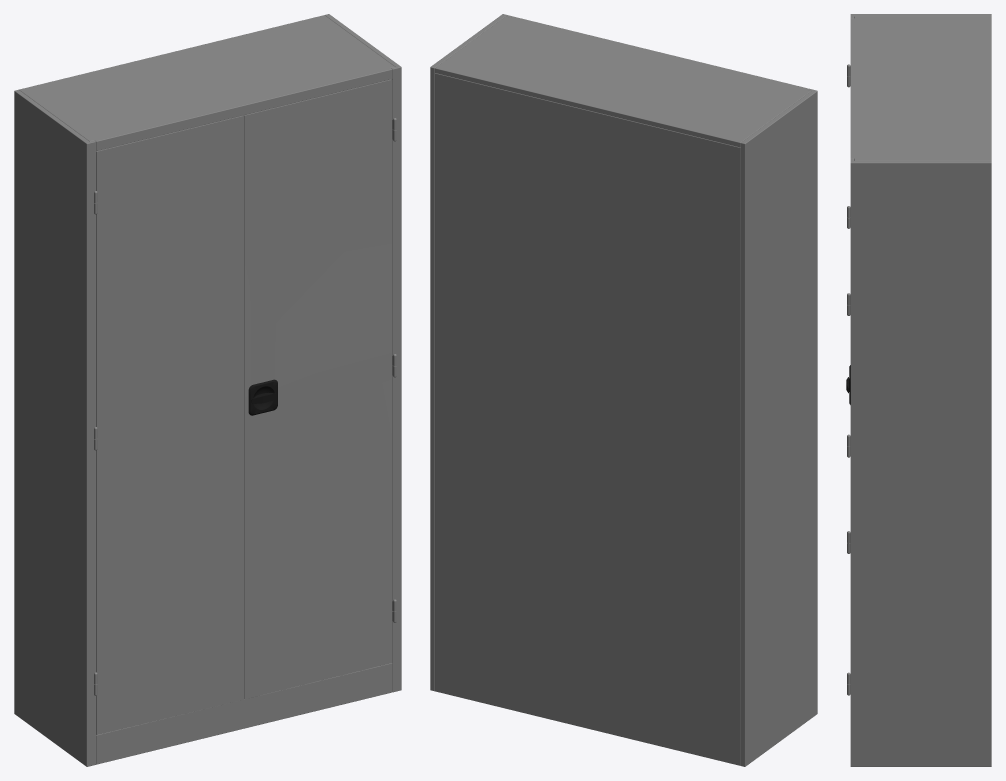
The model's file is CabinetAtlas.fbx.
3 views of the same model, side by side, from view 1: azimuth 30°, elevation 25°; view 2: azimuth 150°, elevation 25°; view 3: azimuth 270°, elevation 25° (orthographic). The views are drawn at different scales.
Parts seen in each view (by area): view 1: CabinetAtlas_Shell, CabinetAtlas_DoorL, CabinetAtlas_DoorR; view 2: CabinetAtlas_Shell; view 3: CabinetAtlas_Shell.
Boxes of the visible parts, left/top/right/bottom form: CabinetAtlas_Shell: left=14, top=14, right=401, bottom=766; CabinetAtlas_DoorL: left=244, top=79, right=396, bottom=699; CabinetAtlas_DoorR: left=94, top=115, right=244, bottom=734; CabinetAtlas_Shell: left=430, top=14, right=817, bottom=766; CabinetAtlas_Shell: left=847, top=14, right=991, bottom=766.
Size of the model in its own units: 1 by 1.89 by 0.412.
1 material, 1 textured.
